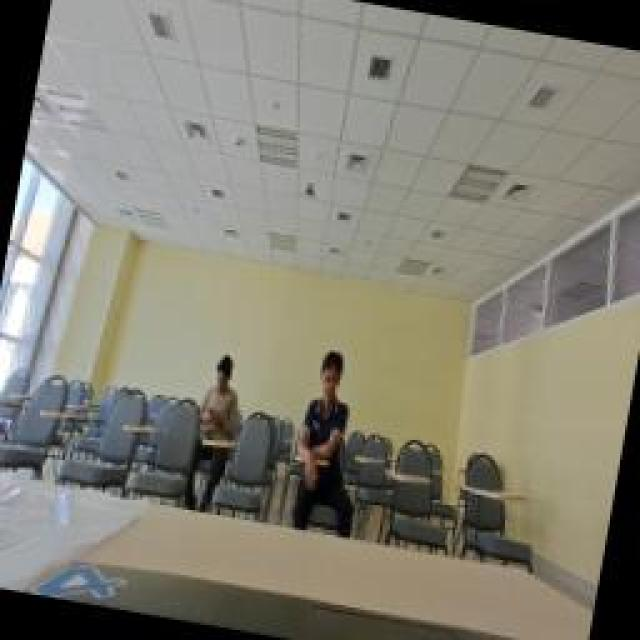phone: (192, 350, 250, 445)
study: (290, 340, 362, 475)
